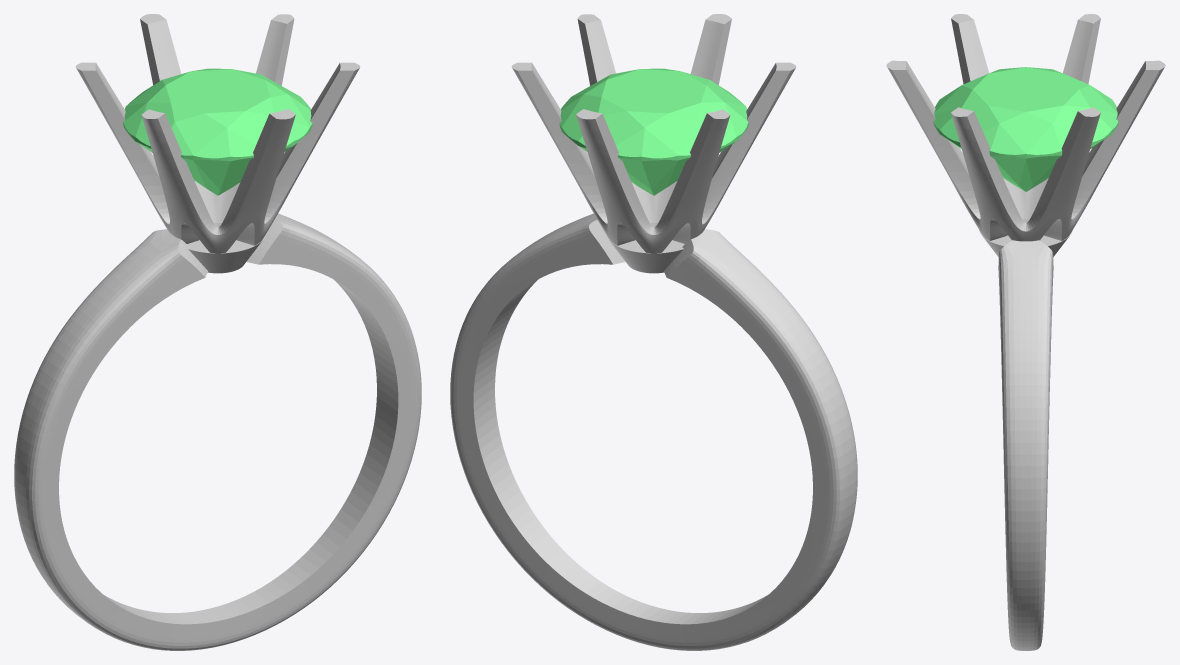
Rendered from anillo2.fbx.
3 renders of one model, left to right at view 1: azimuth 30°, elevation 25°; view 2: azimuth 150°, elevation 25°; view 3: azimuth 270°, elevation 25°, orthographic. The views are drawn at different scales.
Visible parts, largest first — view 1: Plane, Circle.002, Round, Circle; view 2: Plane, Circle.002, Round, Circle; view 3: Circle.002, Plane, Round, Circle.
Part boxes in pixels (bbox=[...]): Plane: bbox=[14, 213, 421, 650]; Circle.002: bbox=[75, 14, 360, 253]; Round: bbox=[123, 68, 312, 195]; Circle: bbox=[187, 222, 265, 273]; Plane: bbox=[450, 213, 857, 650]; Circle.002: bbox=[511, 14, 796, 253]; Round: bbox=[559, 68, 748, 195]; Circle: bbox=[606, 222, 684, 273]; Circle.002: bbox=[886, 14, 1165, 241]; Plane: bbox=[998, 240, 1053, 650]; Round: bbox=[933, 67, 1118, 191]; Circle: bbox=[979, 218, 1072, 256].
Bounding box in the file's own units: 2.15 × 3 × 1.35.
